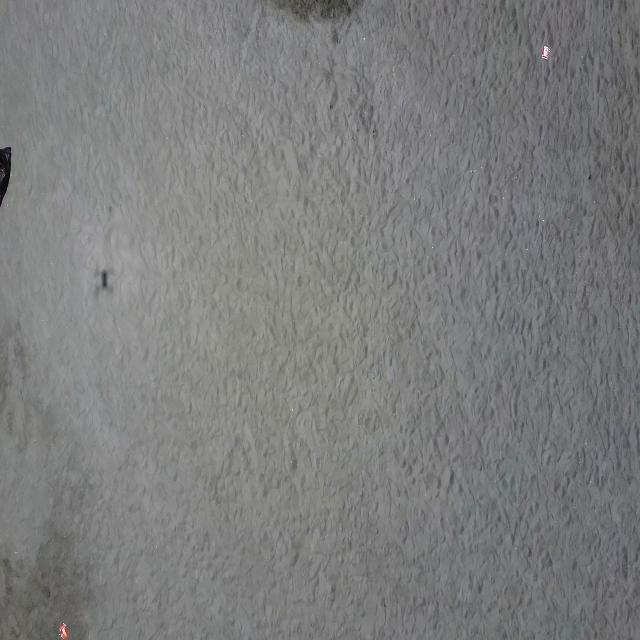Garbage: (0, 147, 8, 203), (57, 622, 67, 639), (540, 44, 550, 59)
